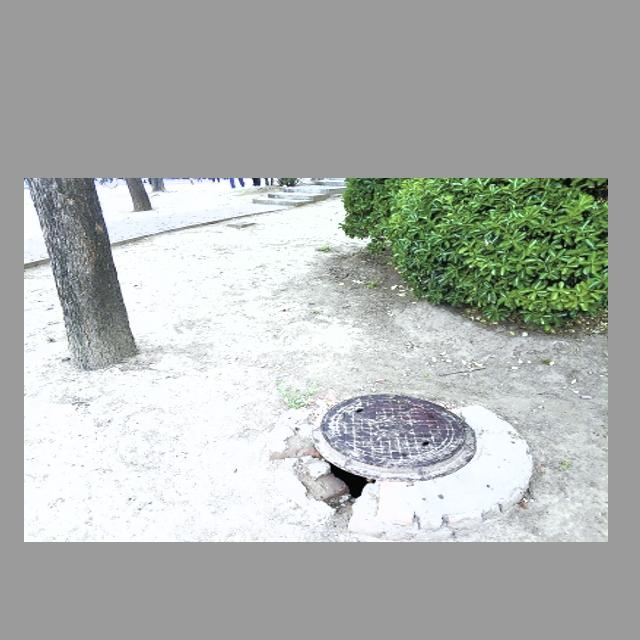circle: (255, 388, 541, 524)
